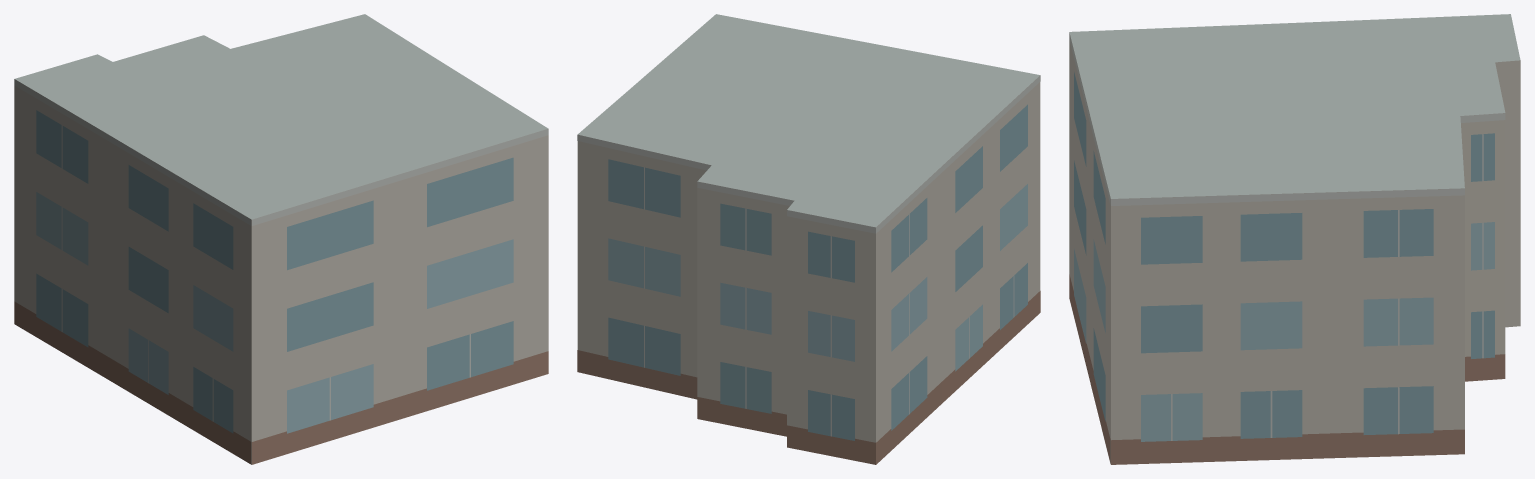
Rendered from survey-upis-32460747.glb.
The picture shows the model from 3 angles, left to right: view 1: azimuth 30°, elevation 25°; view 2: azimuth 150°, elevation 25°; view 3: azimuth 270°, elevation 25°; orthographic projection. The views are drawn at different scales.
Parts seen in each view (by area): view 1: survey-upis-32460747.tmp; view 2: survey-upis-32460747.tmp; view 3: survey-upis-32460747.tmp.
Part boxes in pixels (x1,y1,x2,y2): survey-upis-32460747.tmp: (14,14,548,464); survey-upis-32460747.tmp: (577,14,1040,464); survey-upis-32460747.tmp: (1069,14,1520,464).
Size of the model in its own units: 13.66 by 9.15 by 14.08.
